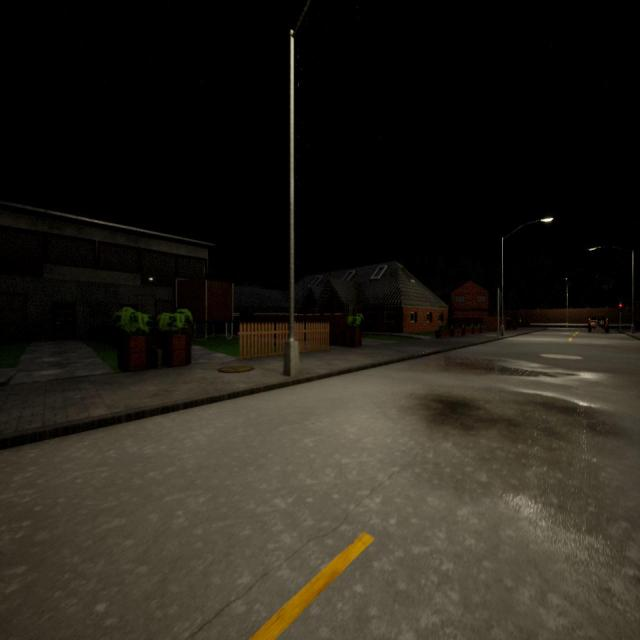Vehicle: (588, 314, 609, 334)
traffic_light: (619, 303, 622, 311)
